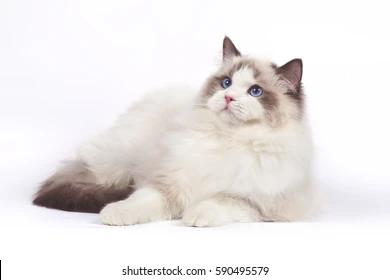ragdoll: (195, 28, 310, 147)
